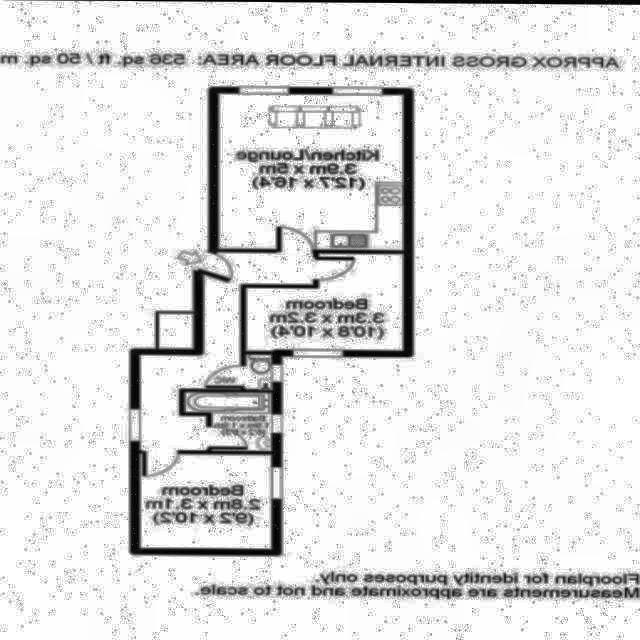room: (95, 203, 328, 481), (217, 93, 406, 251), (244, 252, 404, 350), (139, 453, 273, 550), (184, 391, 272, 452), (246, 354, 272, 390)
